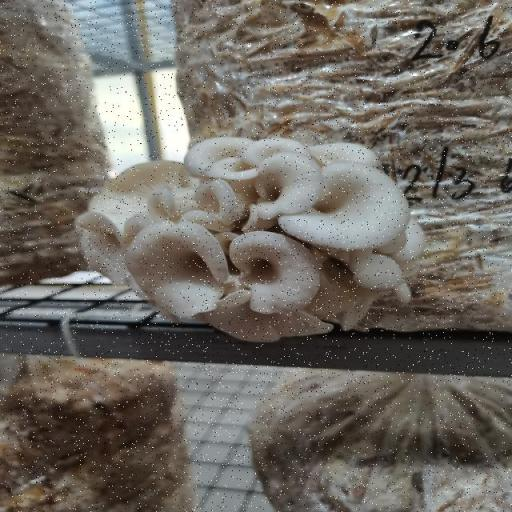White Oyster Mushroom: (62, 113, 434, 363)
